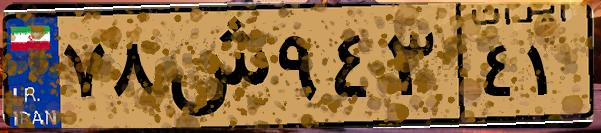1: (525, 38, 570, 115)
3: (385, 28, 445, 110)
4: (330, 28, 385, 110), (475, 38, 525, 113)
7: (57, 26, 110, 100)
8: (110, 28, 158, 98)
9: (270, 28, 330, 110)
ش: (158, 12, 270, 120)
